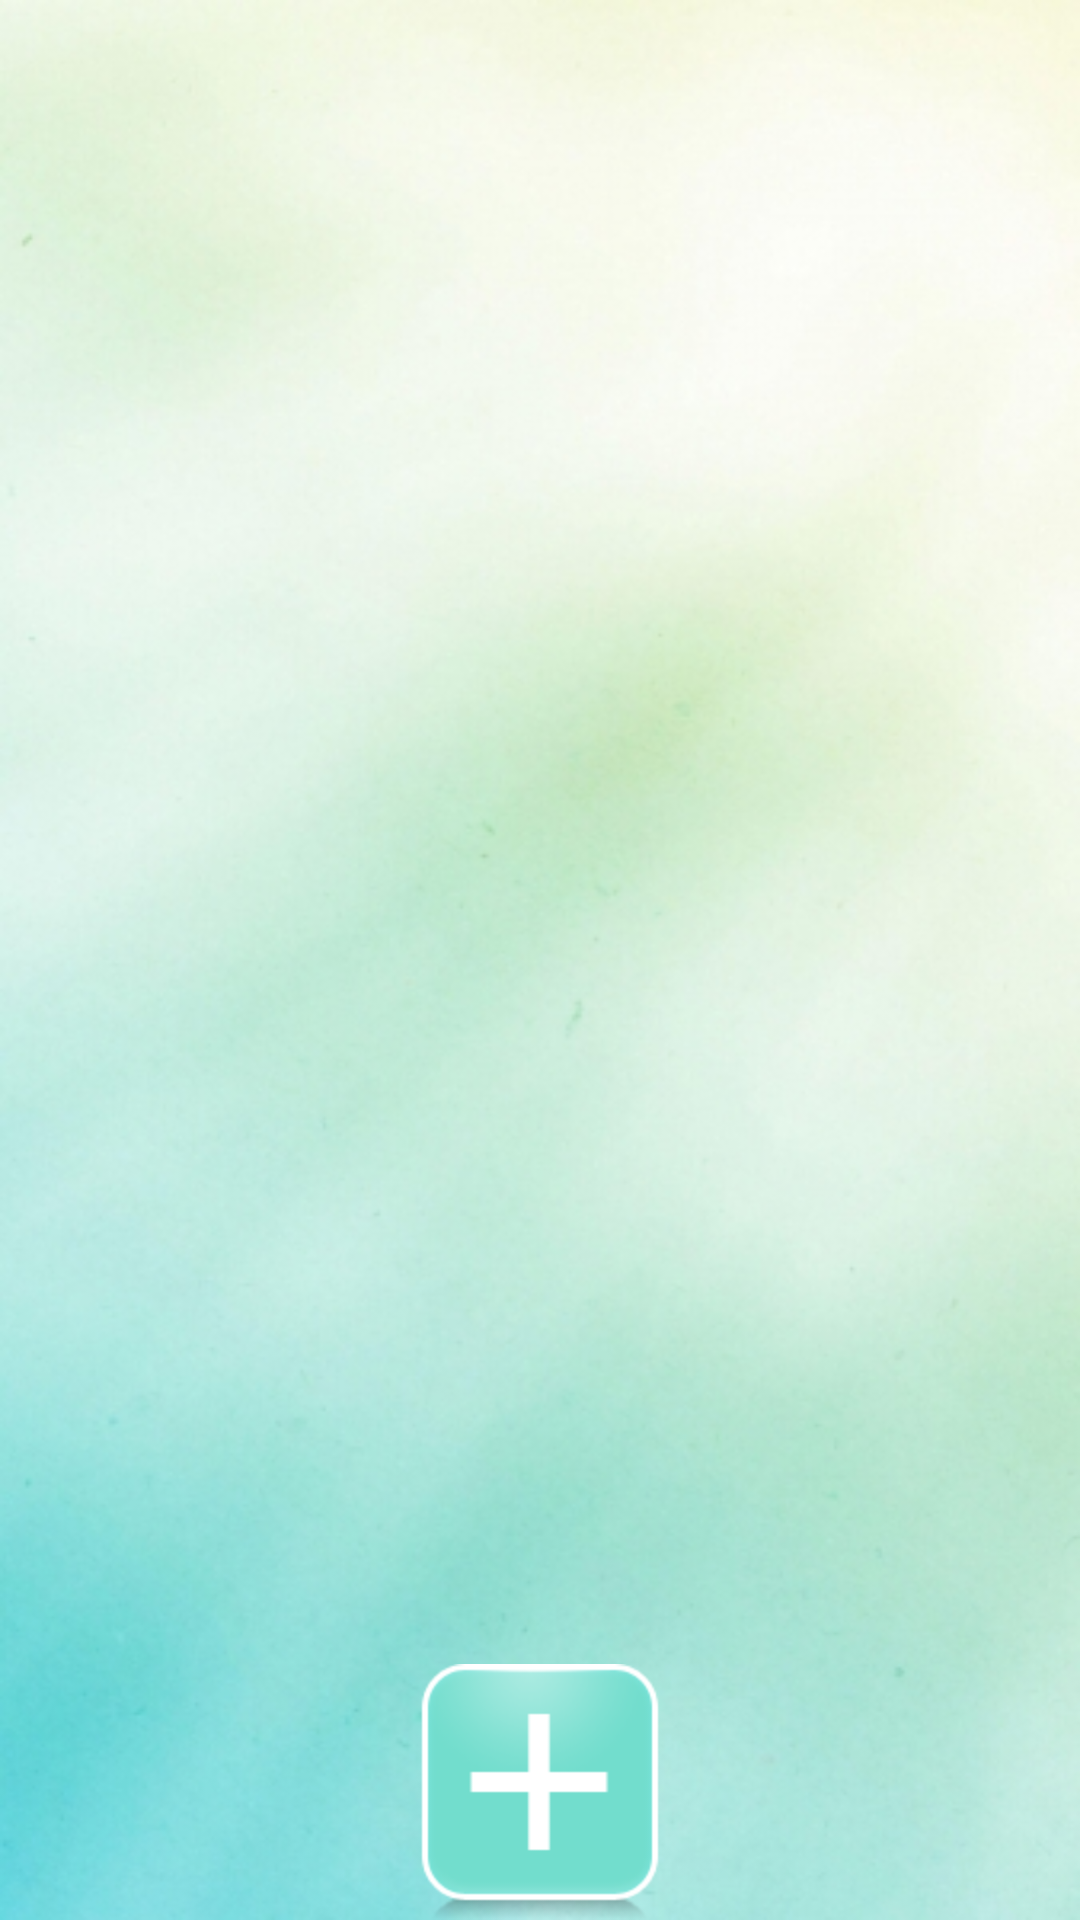

Named icons in this screenshot (1080px×1920px) and their centers, [x,y]:
add: [540,1792]
